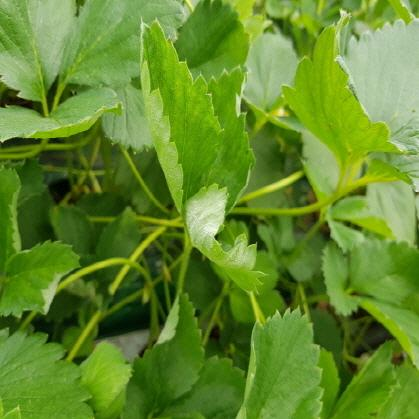Powdery Mildew Leaf: (139, 17, 224, 234), (186, 183, 270, 294), (129, 290, 206, 409), (0, 239, 81, 319)
